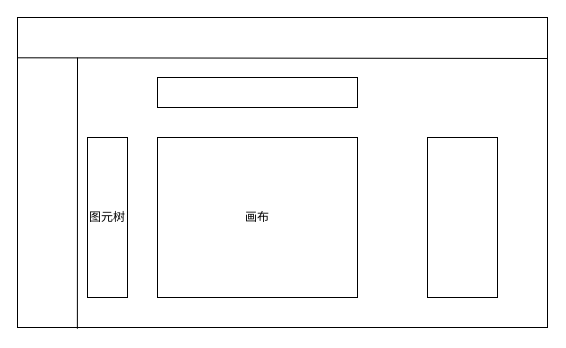
This 566x348 diagram has some shape labels left out. The shapes that lost their labels are listed below. From the top down, each one's centre as x and y in pixels, then its label:
At (x=257, y=92): "对齐功能栏".
At (x=462, y=217): "属性栏".
